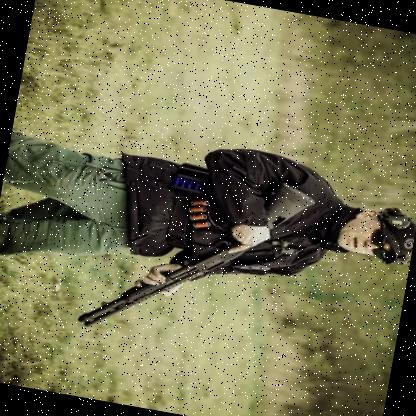rifle: (71, 152, 314, 361)
